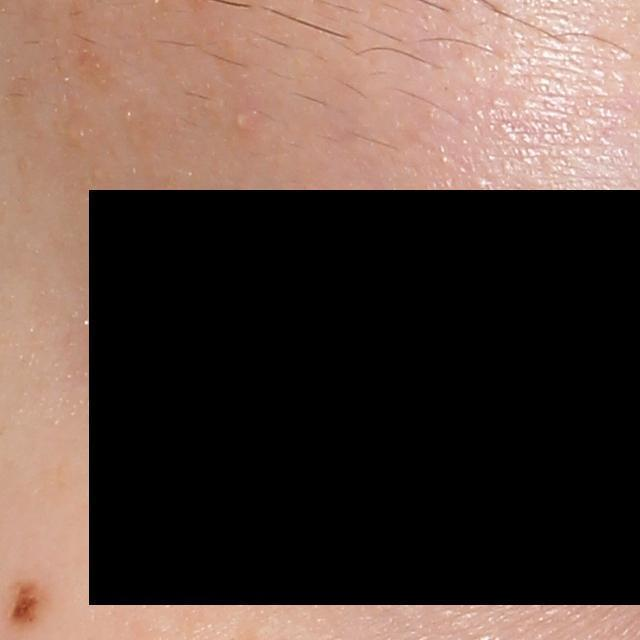nevus: (3, 574, 53, 631)
